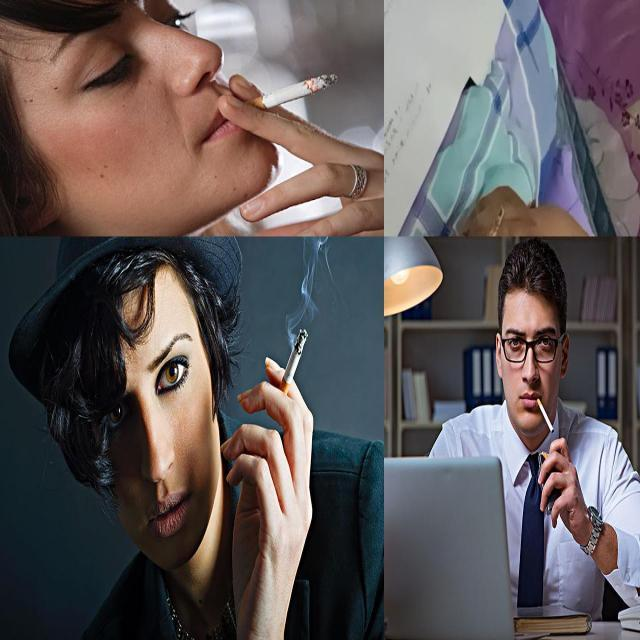smoking: (234, 74, 338, 112), (276, 322, 312, 408), (534, 386, 556, 438), (472, 202, 506, 235)
